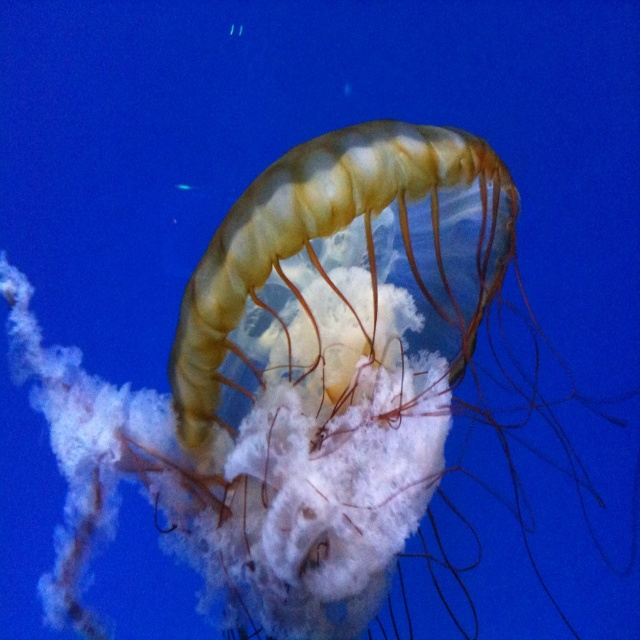Jellyfish: (0, 119, 640, 640)
